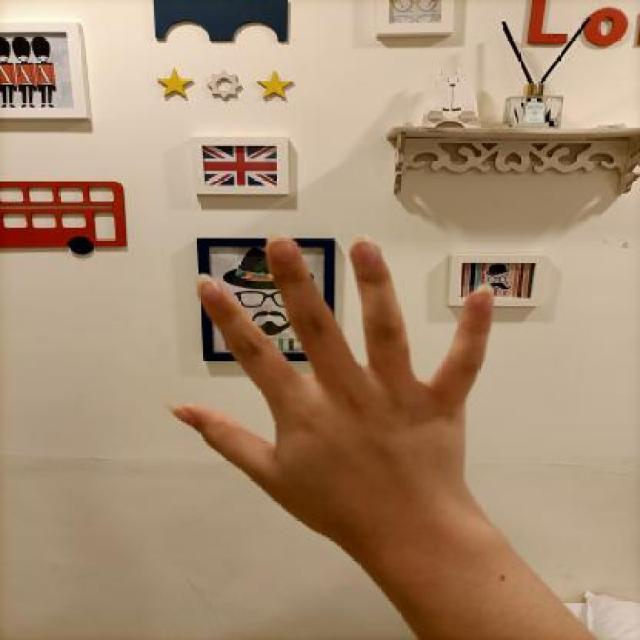bare_hand: (147, 223, 524, 543)
